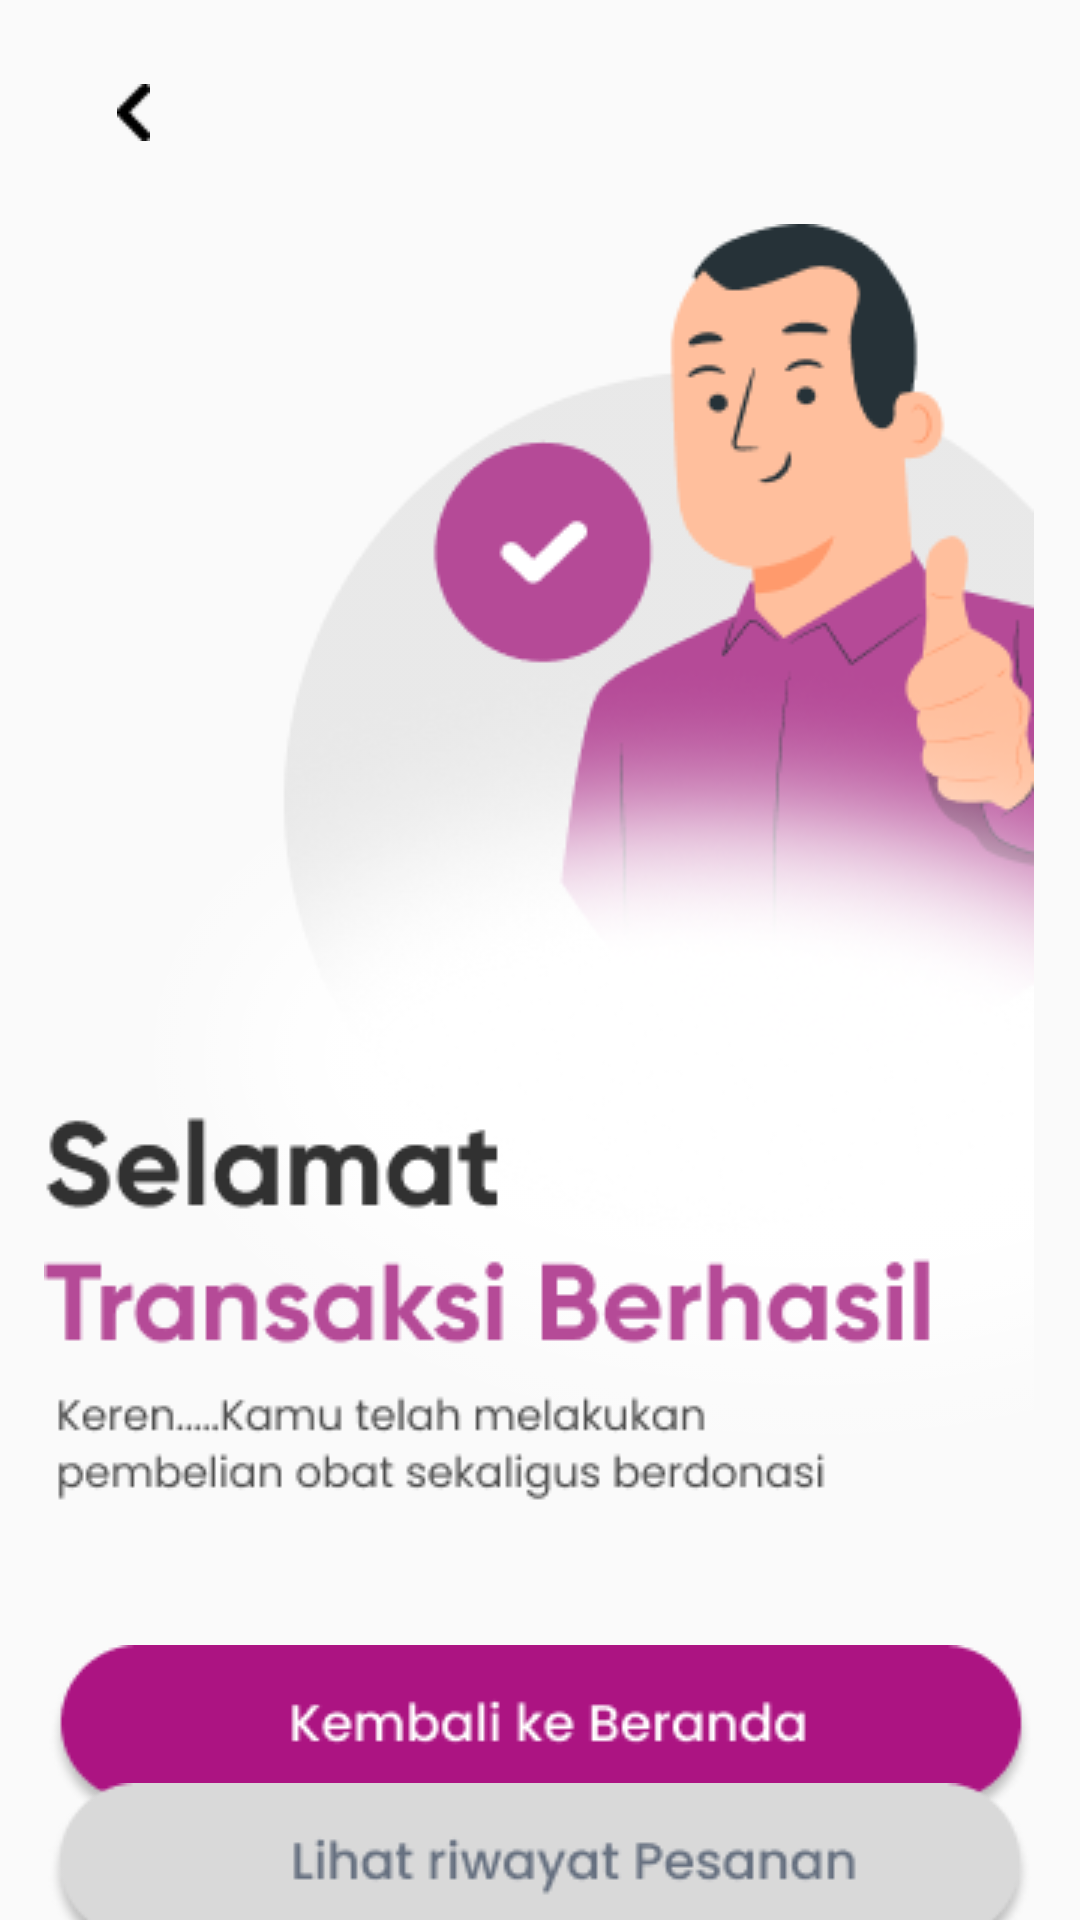

Where icons sit on this 1080×1920 app screen, as (x1, y1, x2, y2):
backhitam: (117, 84, 150, 141)
